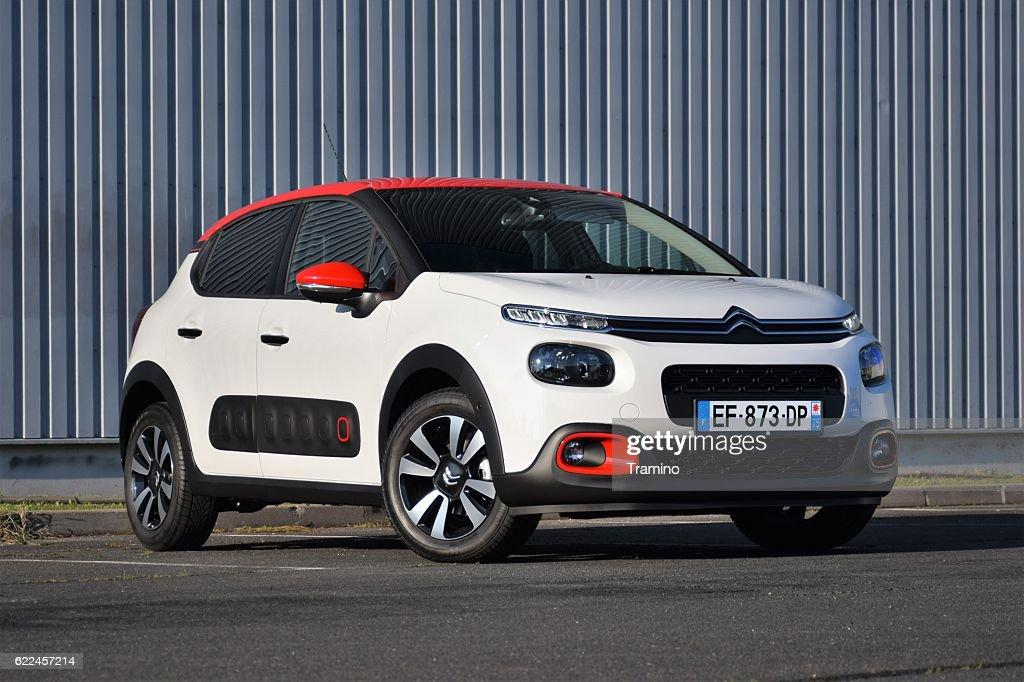Citroen: (714, 297, 768, 349)
